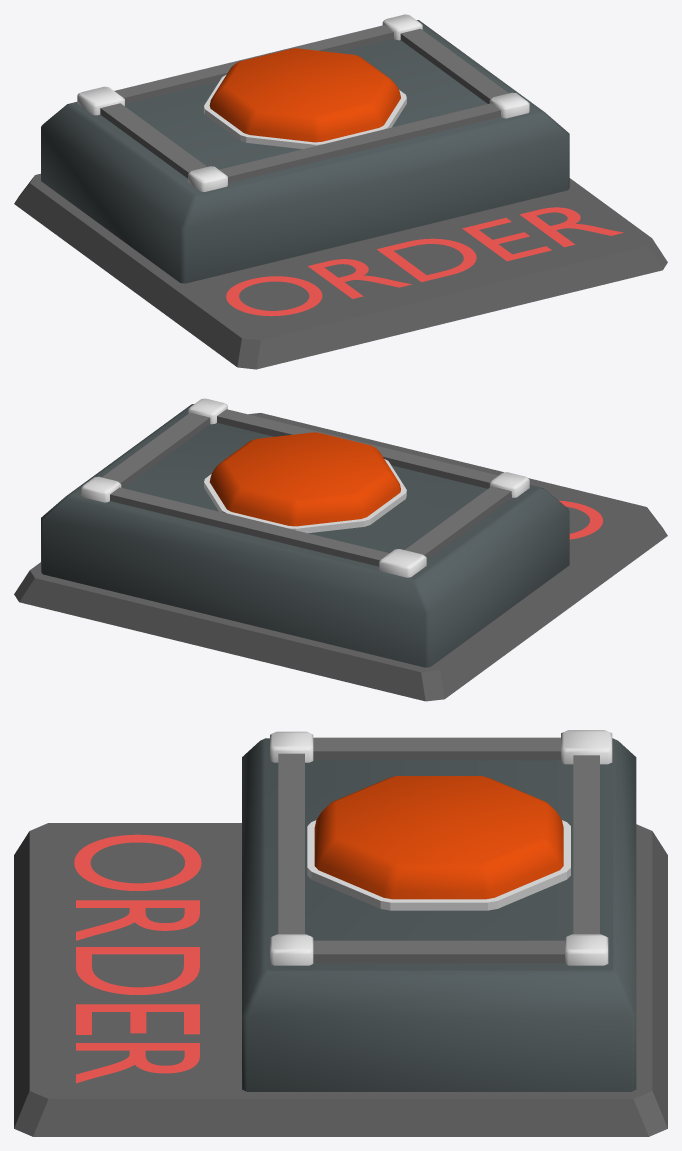
The model's file is red_button.glb.
The picture shows the model from 3 angles, top to bottom: view 1: azimuth 30°, elevation 25°; view 2: azimuth 150°, elevation 25°; view 3: azimuth 270°, elevation 25°; orthographic projection. The views are drawn at different scales.
Visible parts, largest first — view 1: Plane; view 2: Plane; view 3: Plane.
Part boxes in pixels (x1,y1,x2,y2): Plane: (14,14,667,369); Plane: (14,398,667,701); Plane: (14,730,667,1136).
Size of the model in its own units: 1.01 by 0.2808 by 0.9633.
